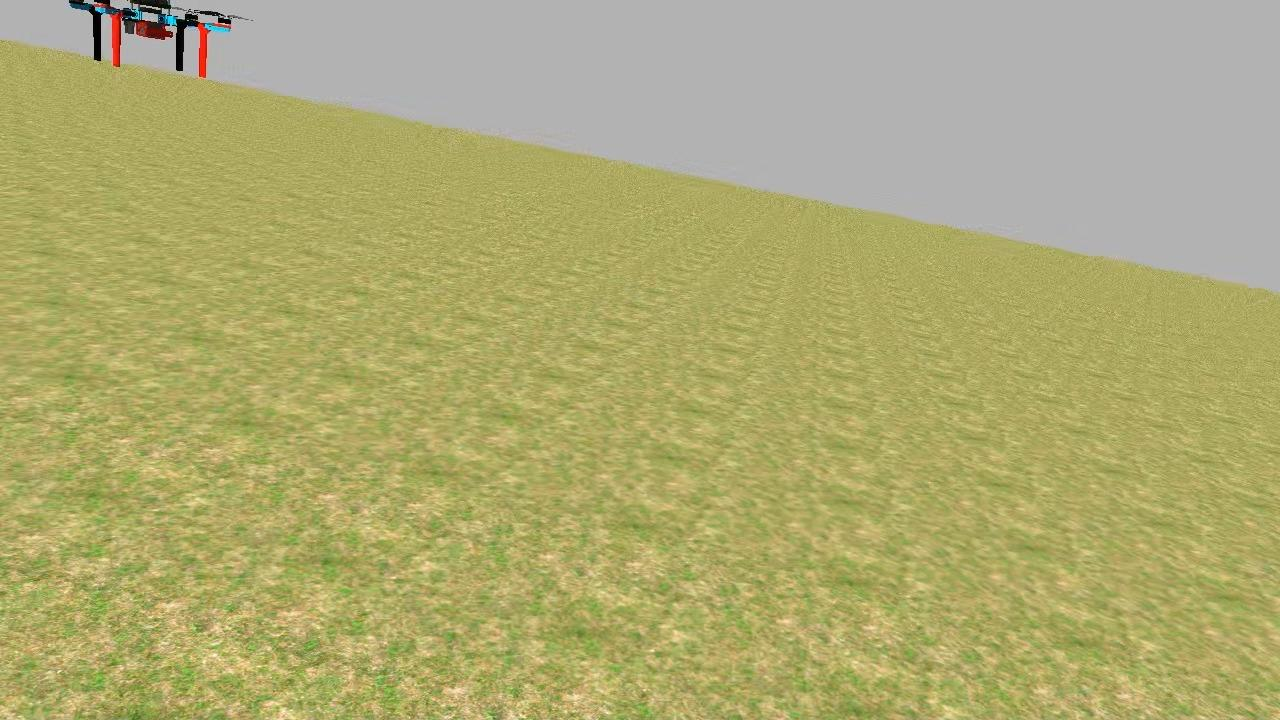UAV: (70, 0, 238, 74)
